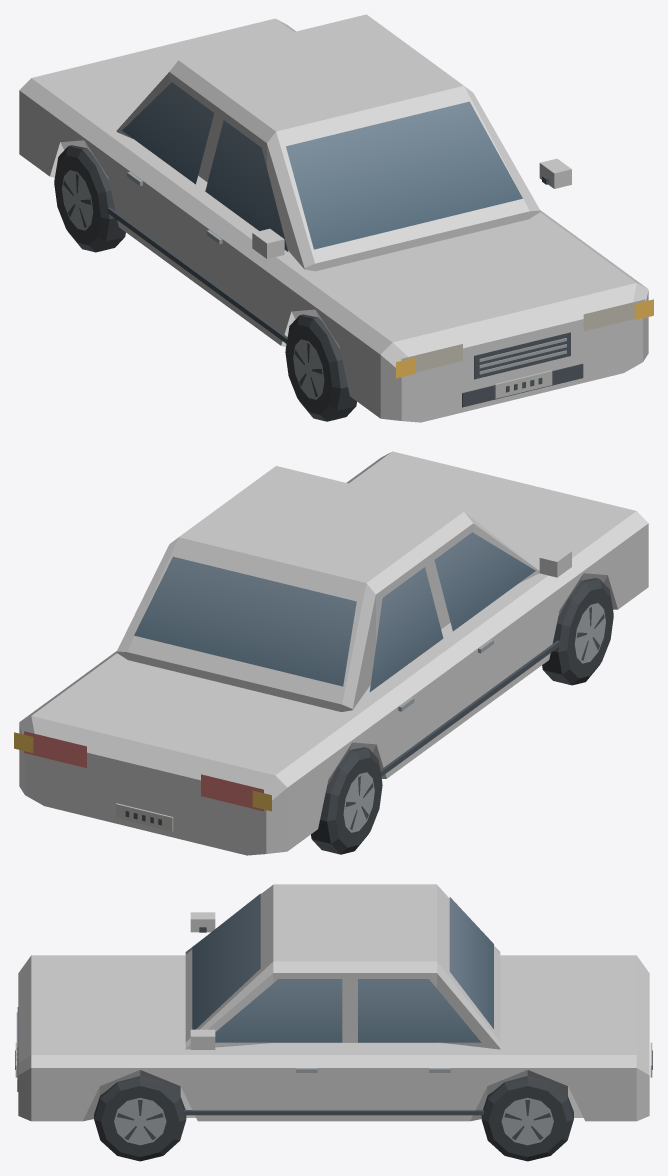
File: sedan.glb
3 renders of one model, top to bottom at view 1: azimuth 30°, elevation 25°; view 2: azimuth 150°, elevation 25°; view 3: azimuth 270°, elevation 25°, orthographic. The views are drawn at different scales.
Visible parts, largest first — view 1: body, wheel_1, wheel_3; view 2: body, wheel_3, wheel_1, brake_0, brake_1; view 3: body, wheel_2, wheel_0.
Boxes of the visible parts, x1=… form: body: x1=19, y1=14, x2=648, y2=422; wheel_1: x1=285, y1=314, x2=356, y2=421; wheel_3: x1=54, y1=145, x2=125, y2=252; body: x1=19, y1=451, x2=648, y2=855; wheel_3: x1=311, y1=747, x2=382, y2=854; wheel_1: x1=542, y1=578, x2=613, y2=685; brake_0: x1=24, y1=731, x2=86, y2=768; brake_1: x1=201, y1=774, x2=263, y2=811; body: x1=15, y1=884, x2=652, y2=1121; wheel_2: x1=481, y1=1076, x2=573, y2=1161; wheel_0: x1=94, y1=1076, x2=186, y2=1161.
Size of the model in its own units: 2.05 by 1.4 by 4.44.
